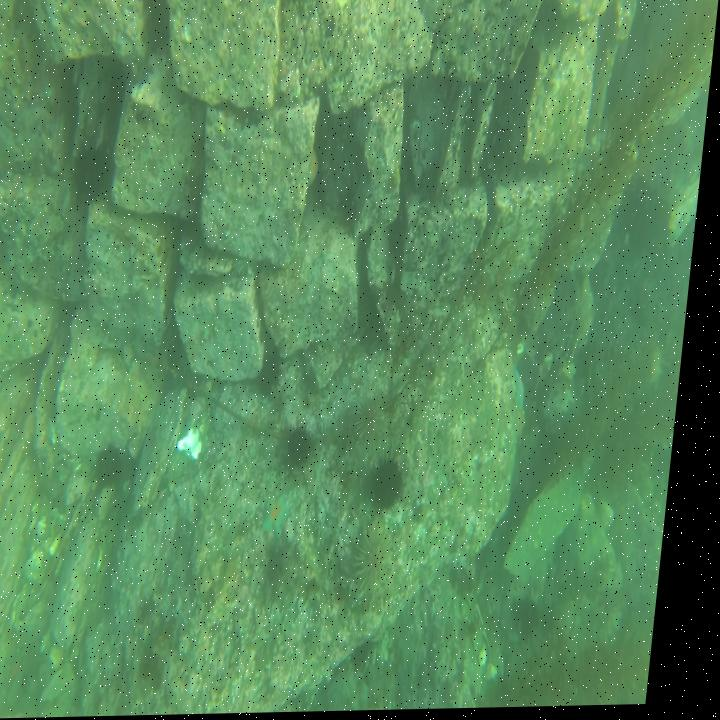echinus: (362, 523, 413, 604), (375, 451, 424, 516), (70, 141, 119, 206), (354, 392, 405, 450), (289, 415, 330, 477), (99, 437, 141, 496), (0, 590, 10, 651)
scallop: (183, 424, 216, 466)
starfish: (271, 490, 306, 546), (304, 142, 326, 196), (517, 366, 536, 418)
